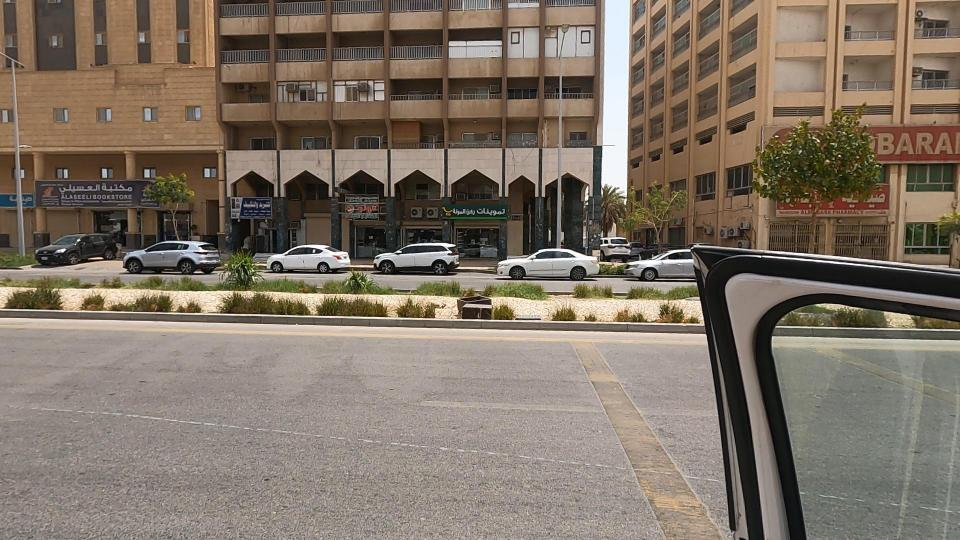BAD_BILLBOARD: (809, 84, 960, 196)
